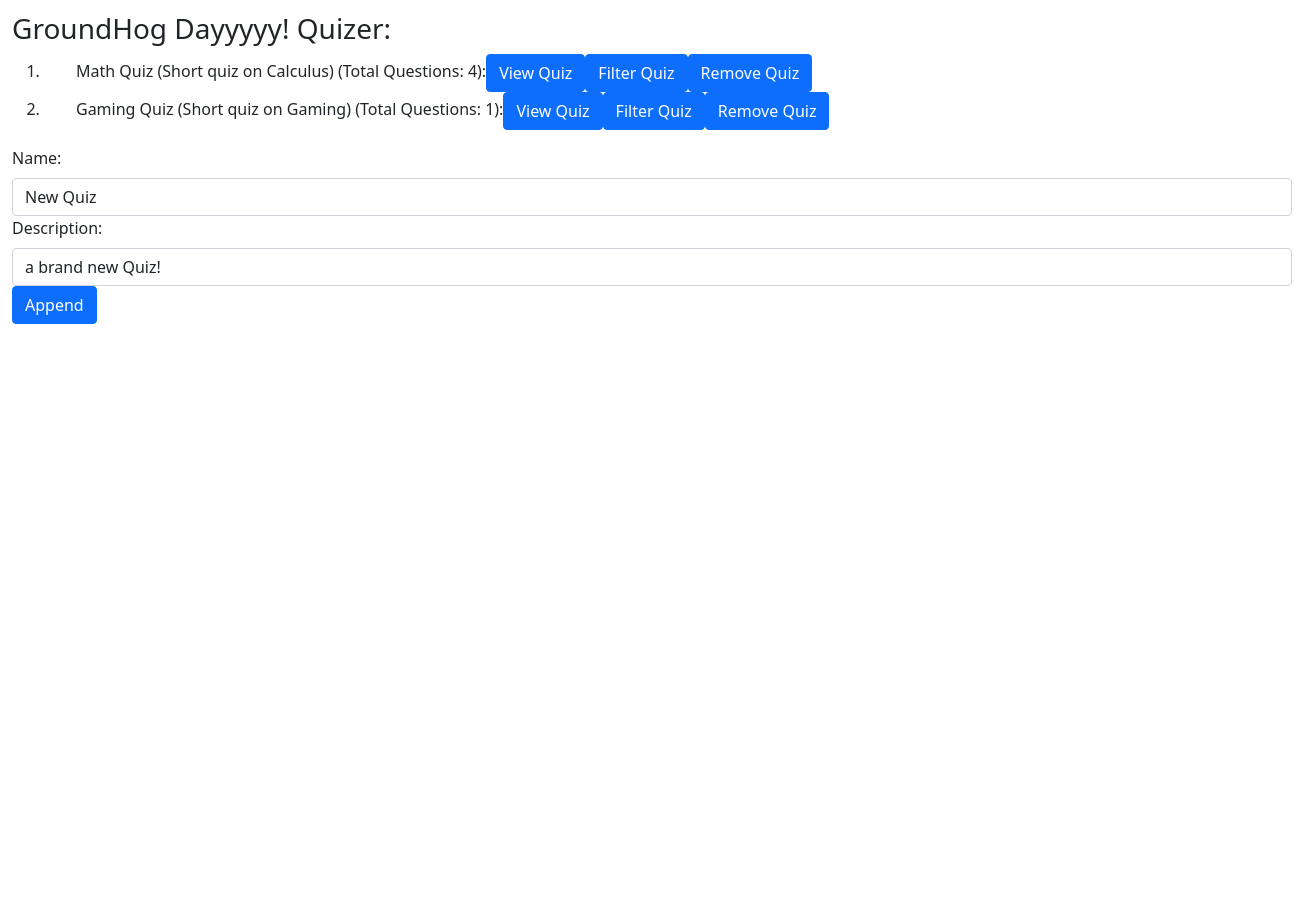
it: Questions Tests › Question1 is displayed
Click the button with test id "view-quiz-button" in the row of "Short quiz on Calculus" at (536, 73), box [486,54,585,92]
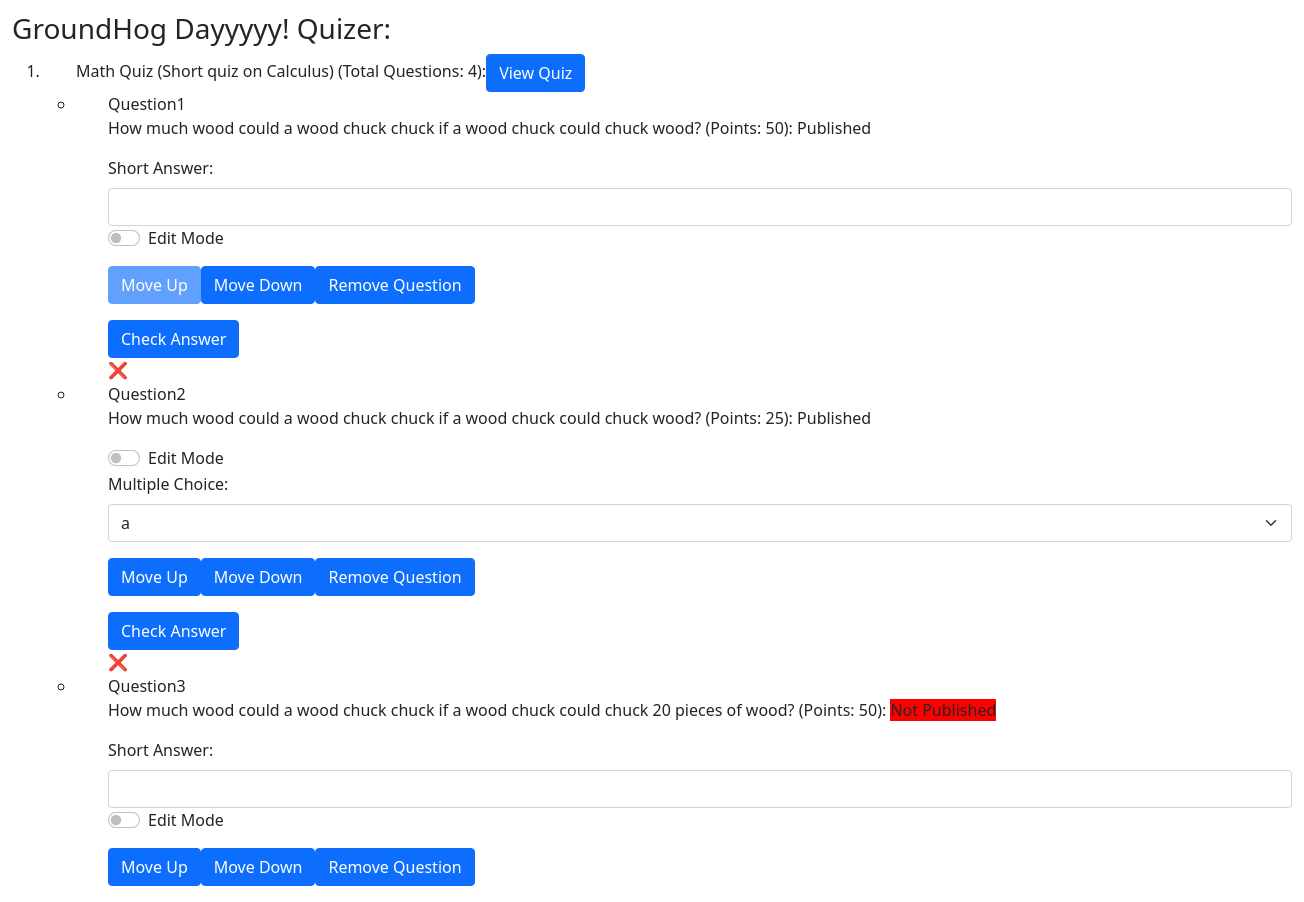
Now the text "Question1" is shown, box [108,93,186,115]
